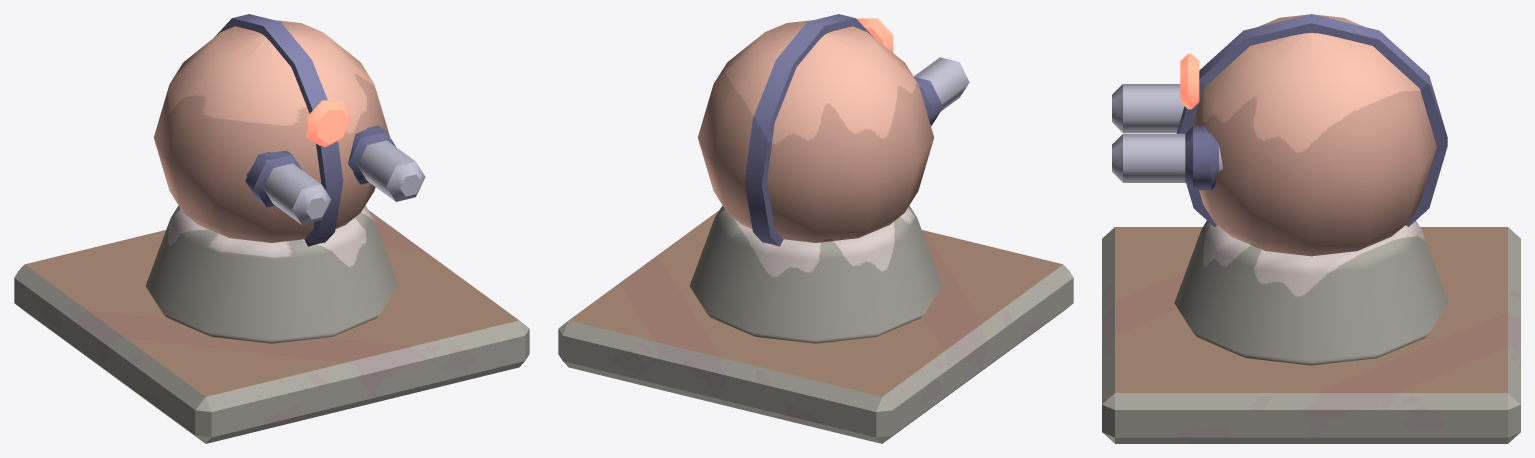
Rendered from R4X_PointDefense_LOD1.glb.
3 views of the same model, side by side, from view 1: azimuth 30°, elevation 25°; view 2: azimuth 150°, elevation 25°; view 3: azimuth 270°, elevation 25° (orthographic). The views are drawn at different scales.
Visible parts, largest first — view 1: R4X_PointDefense_LOD1; view 2: R4X_PointDefense_LOD1; view 3: R4X_PointDefense_LOD1.
Boxes of the visible parts, <box> form: R4X_PointDefense_LOD1: <box>14,14,529,443</box>; R4X_PointDefense_LOD1: <box>558,14,1073,443</box>; R4X_PointDefense_LOD1: <box>1102,14,1520,443</box>.
Size of the model in its own units: 0.52 by 0.469 by 0.52.
Materials: 5 (4 with a texture image).
